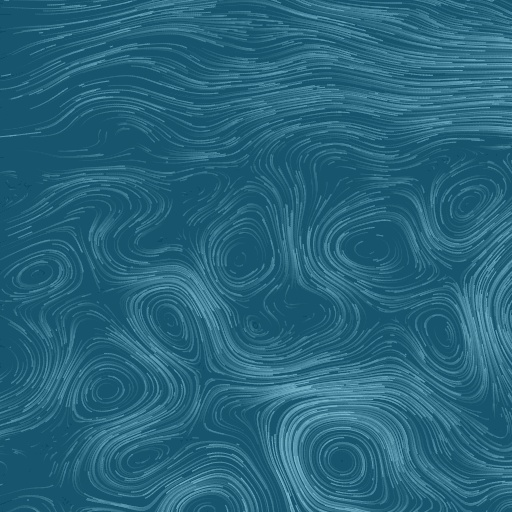eddy: (290, 412, 393, 507), (203, 206, 280, 299), (67, 351, 150, 425), (325, 214, 411, 282), (410, 296, 478, 378), (433, 175, 505, 236), (3, 247, 76, 306), (142, 295, 198, 356), (109, 439, 172, 483), (244, 312, 273, 344)
